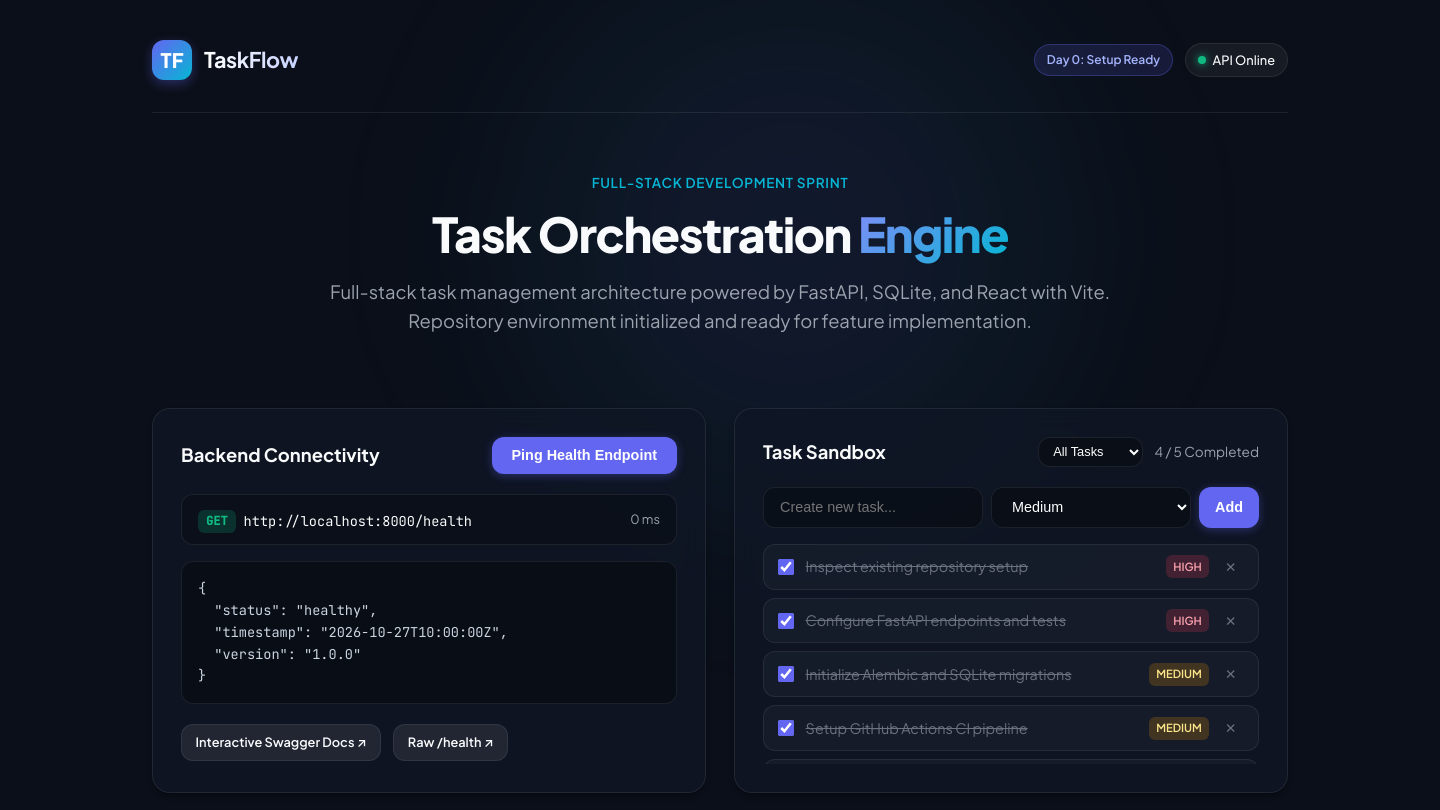
Scenario: TaskFlow Frontend Application Tests › renders empty state when all tasks are deleted
Expected: the text "API Online" is shown, [1212, 50, 1275, 70]
Click the button titled "Delete task" in the row of "Inspect existing repository setup" at (1231,567), box [1217, 556, 1244, 578]
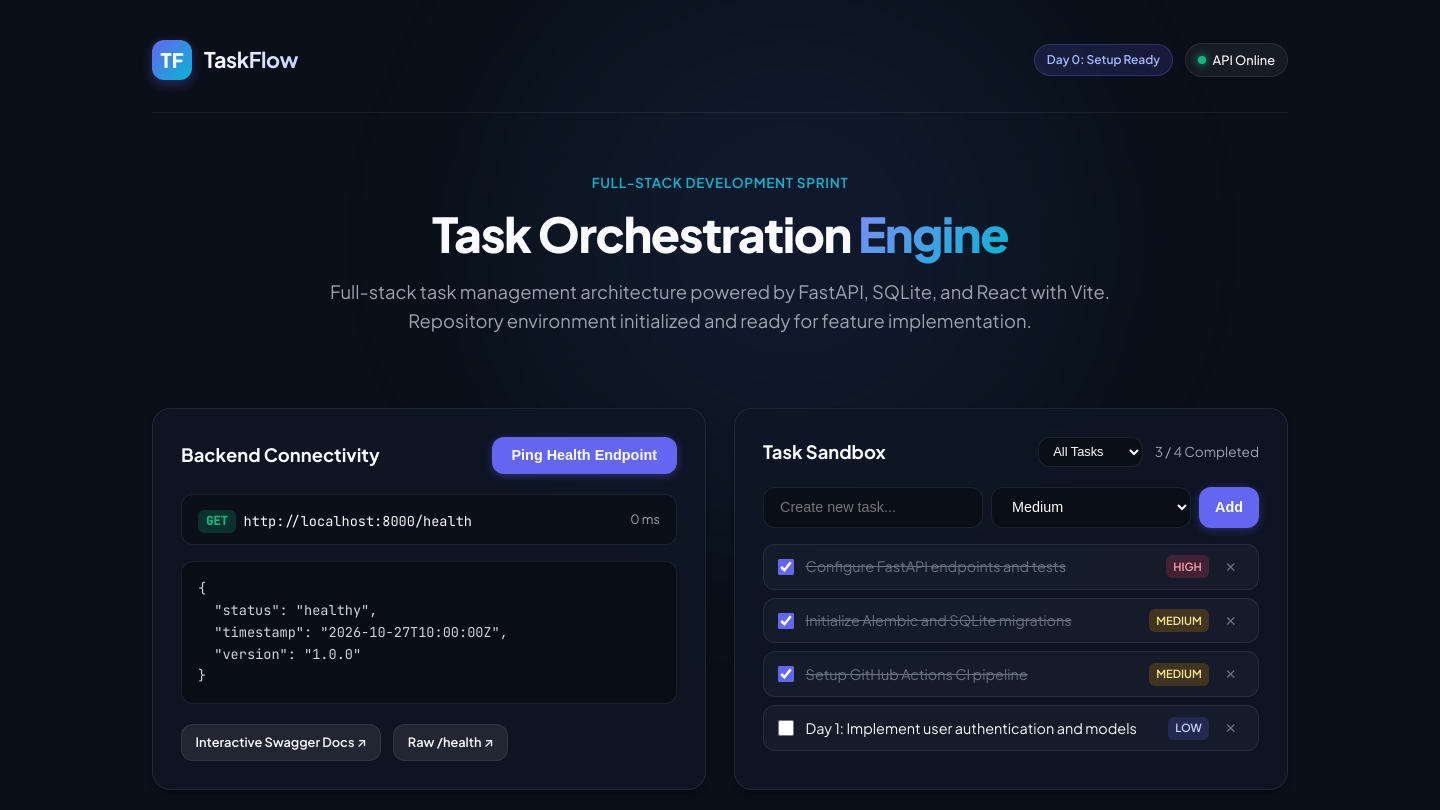
Click the button titled "Delete task" next to "high" at (1231,567), box [1217, 556, 1244, 578]
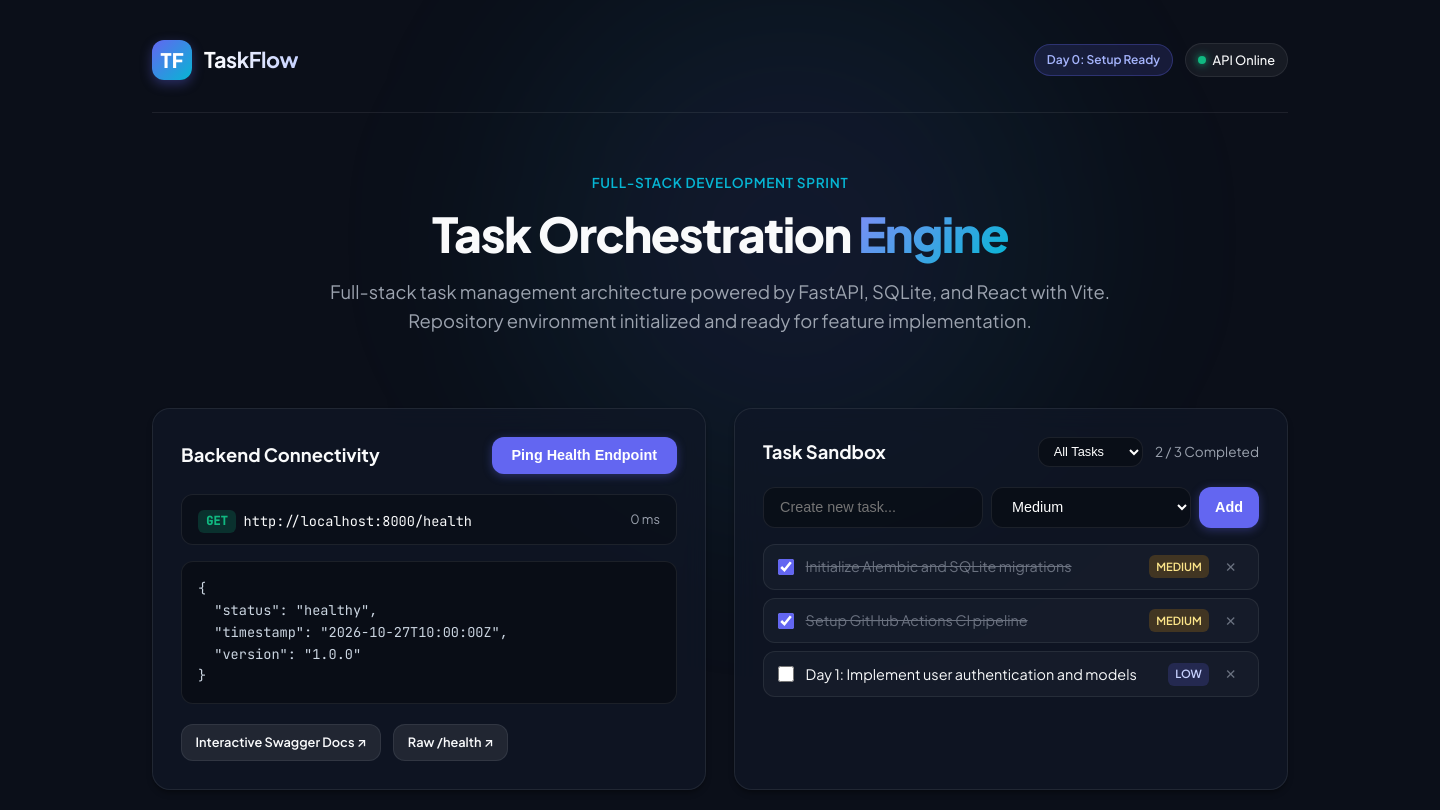
Click the button titled "Delete task" in the row of "Initialize Alembic and SQLite migrations" at (1231,567), box [1217, 556, 1244, 578]
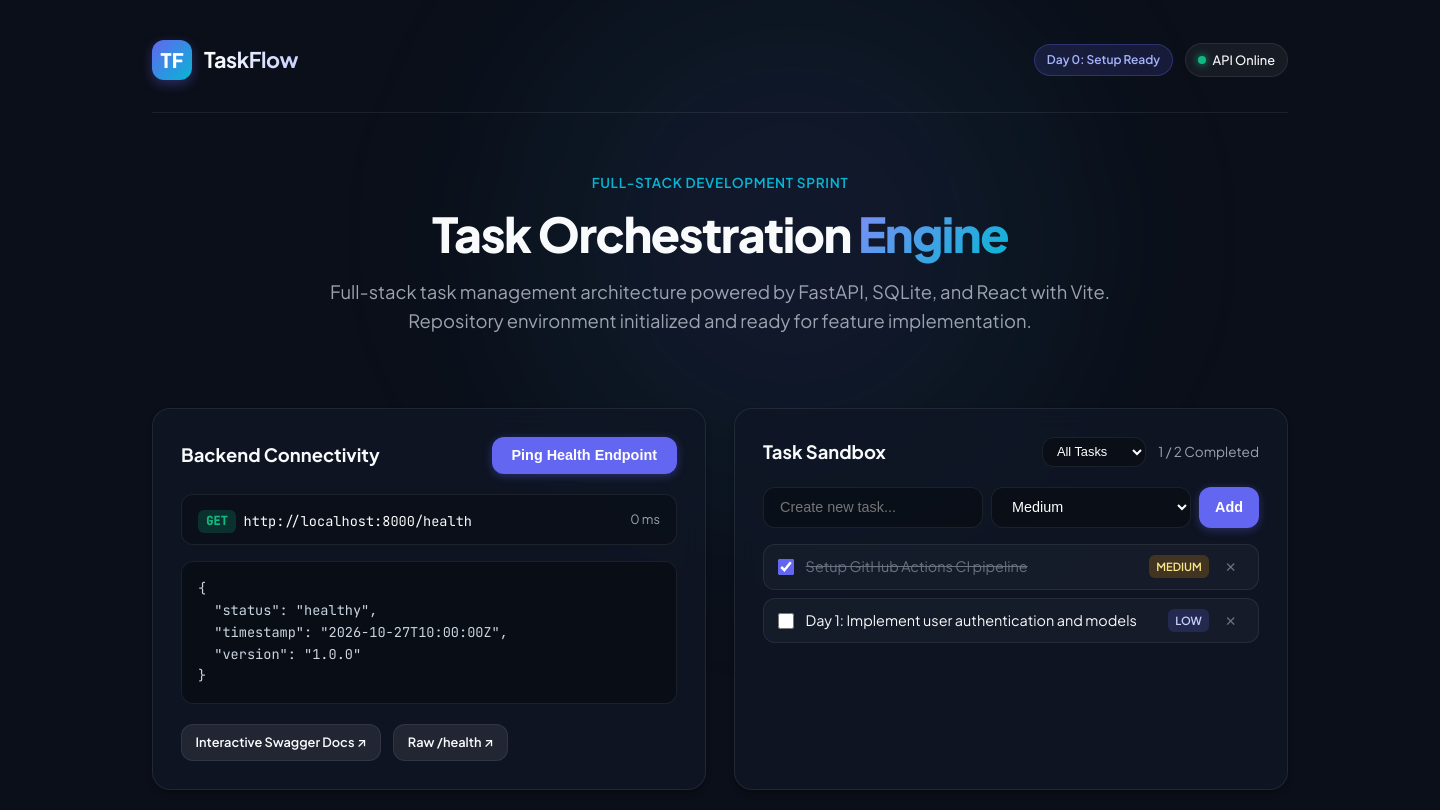
Click the button titled "Delete task" next to "medium" at (1231,567), box [1217, 556, 1244, 578]
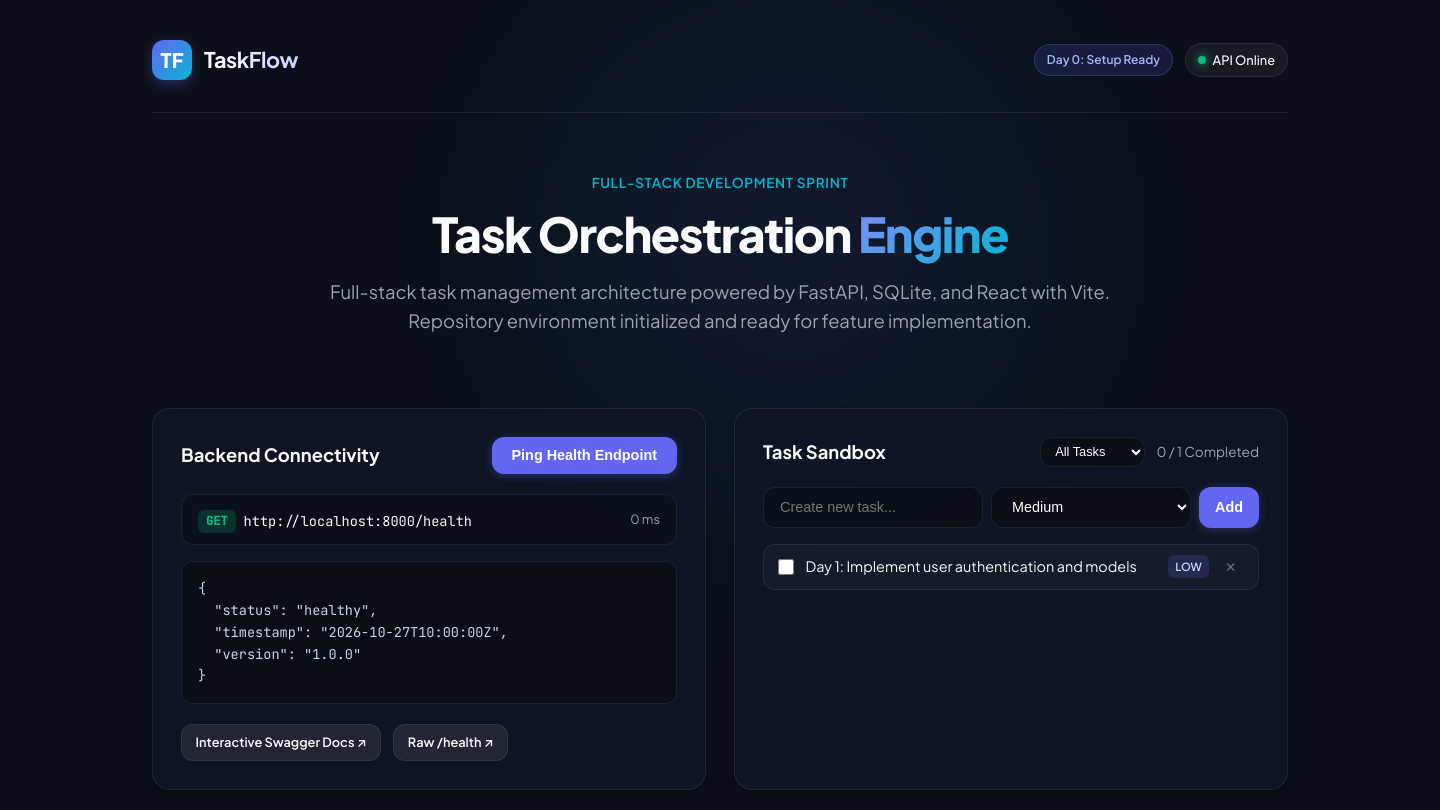
Click the button titled "Delete task" at (1231,567), box [1217, 556, 1244, 578]
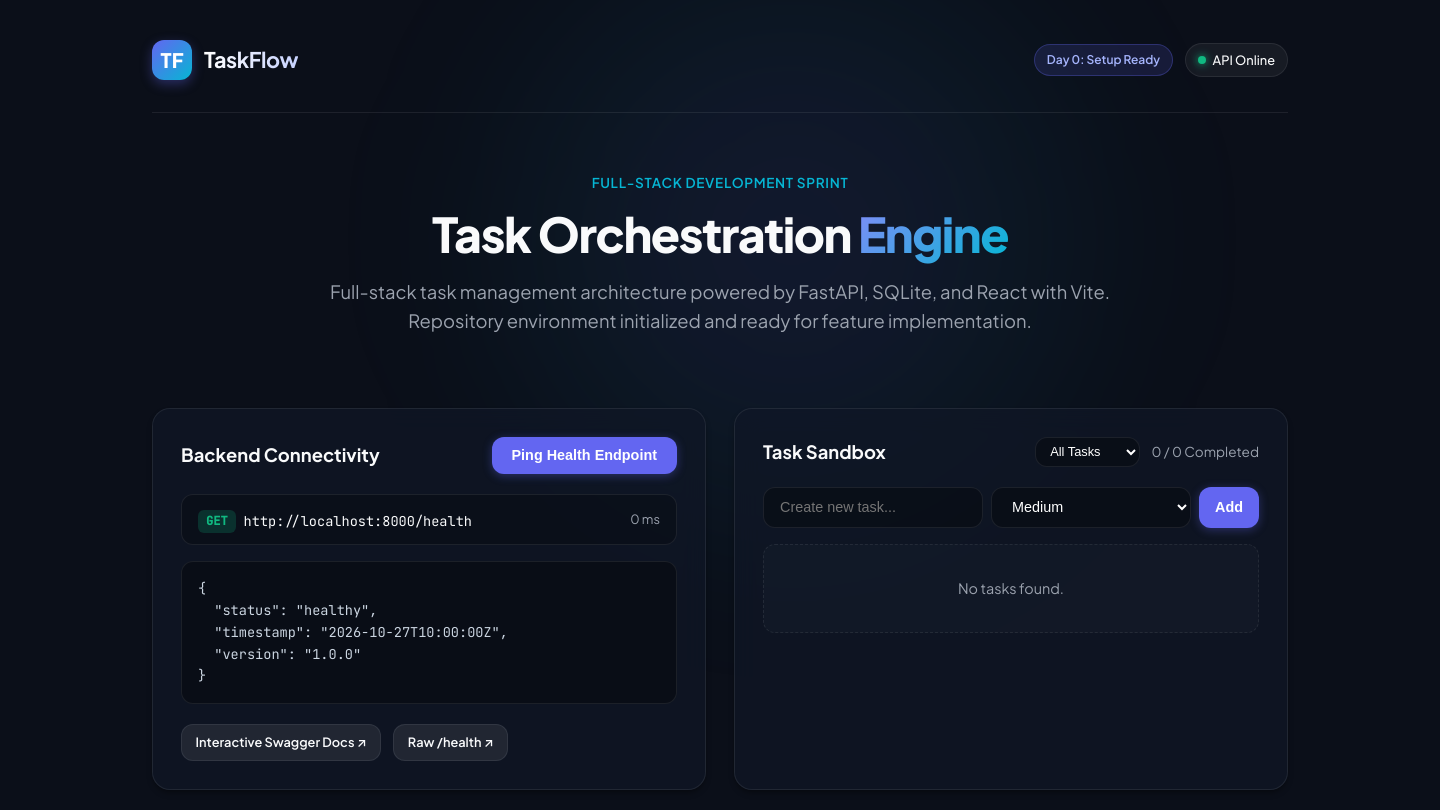
Now the text "No tasks found." is shown, box [763, 544, 1259, 633]
Now the text with test id "task-empty-state" reads "No tasks found.", box [958, 579, 1064, 597]
Now the text "0 / 0 Completed" is shown, box [1152, 441, 1259, 463]
